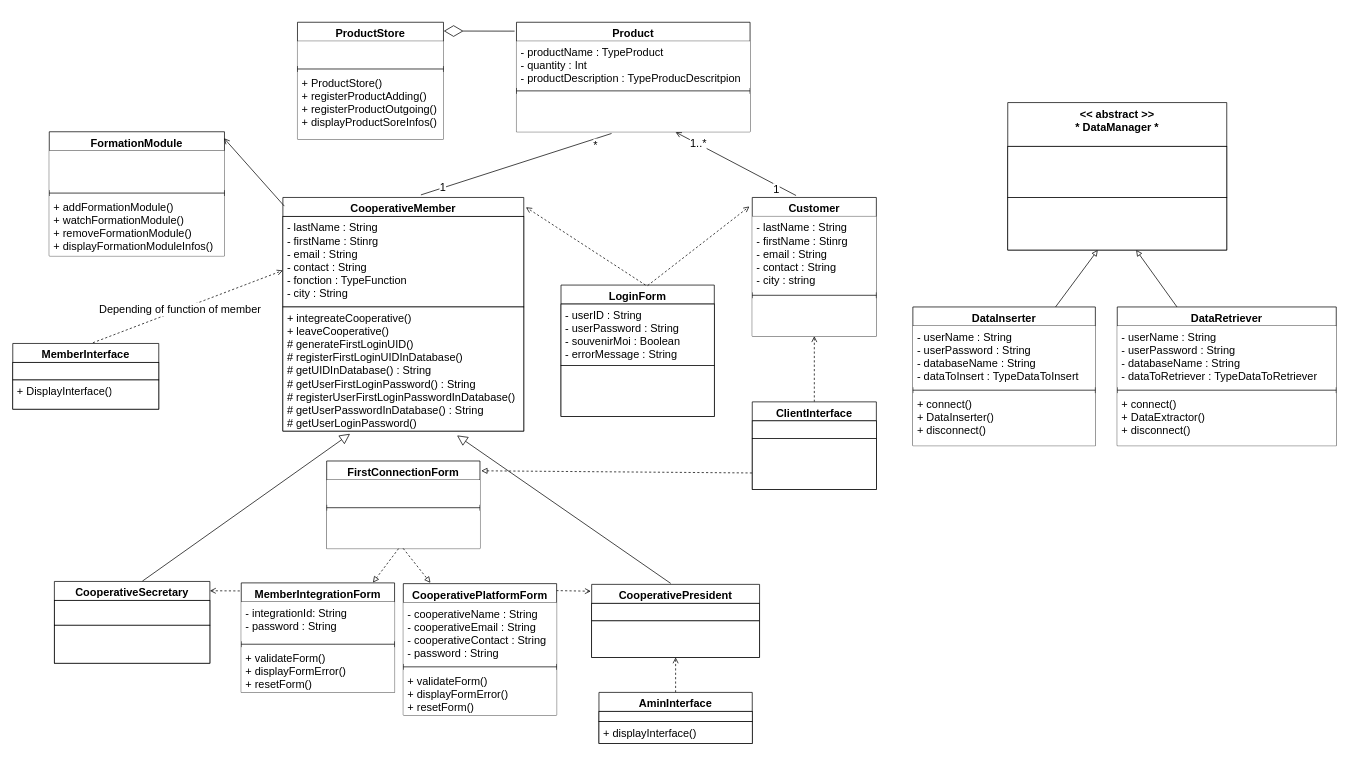
This 1349x758 diagram has some shape labels left out. Here are the shapes that lost their labels. From the top down, the centre of each, then its label:
At (x=370, y=53): "- storeId : String".
At (x=633, y=112): "+ Product () + displayProductInfos()".
At (x=136, y=170): "- formation : TypeFormation - formationDescription : String".
At (x=1117, y=171): "- userName : String - userPassword : String - databaseName : String".
At (x=1117, y=223): "+ connect() + disconnect()".
At (x=814, y=317): "+ buyPorduct() + searchProcuct()".
At (x=637, y=390): "+ connexion() + displayConnexionError() + resetFields()".
At (x=814, y=463): "+ createCompte() + changeProfile() + displayPoduct()".
At (x=403, y=492): "- firstconnection : Boolean".
At (x=403, y=529): "+ createCooperative() + integrateCooperative()".
At (x=132, y=644): "+ receivePayment() + initiateProductDelivery()".
At (x=675, y=638): "+ initiateMemberAdding() + confirmMemberAdding()".
